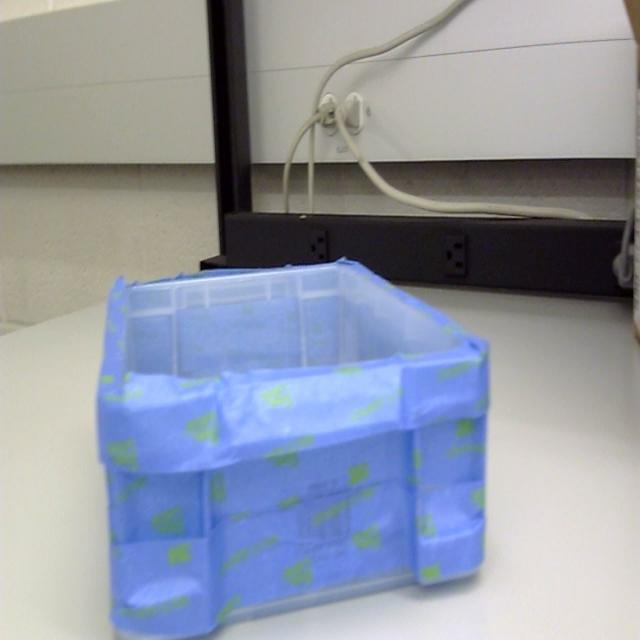bucket: (94, 260, 492, 640)
